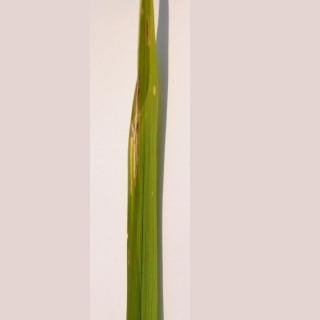Hawar-Daun: (122, 100, 148, 186), (139, 0, 161, 52), (148, 82, 160, 100)
